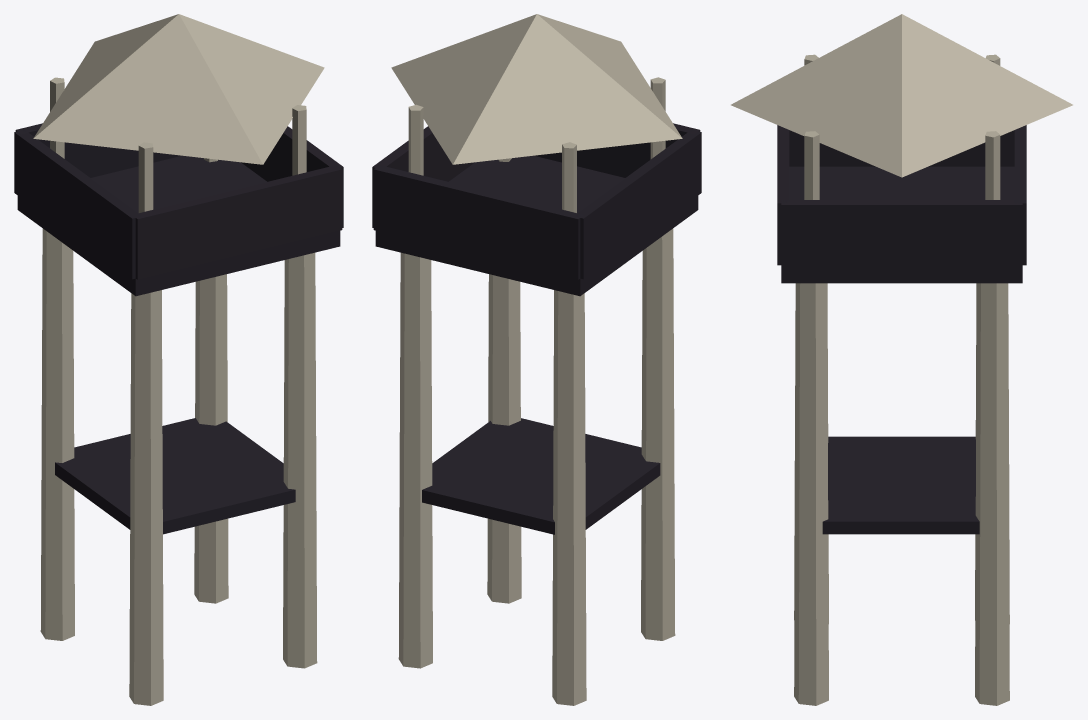
Rendered from horde_tower_broken.glb.
3 renders of one model, left to right at view 1: azimuth 30°, elevation 25°; view 2: azimuth 150°, elevation 25°; view 3: azimuth 270°, elevation 25°, orthographic. The views are drawn at different scales.
Parts seen in each view (by area): view 1: horde_tower_piece5, horde_tower_piece6, horde_tower_piece12, horde_tower_piece2, horde_tower_piece8, horde_tower_piece9, horde_tower_piece1, horde_tower_piece3, horde_tower_piece0, horde_tower_piece4, horde_tower_piece10, horde_tower_piece7 (+1 smaller); view 2: horde_tower_piece5, horde_tower_piece1, horde_tower_piece6, horde_tower_piece2, horde_tower_piece9, horde_tower_piece10, horde_tower_piece12, horde_tower_piece4, horde_tower_piece0, horde_tower_piece3, horde_tower_piece8, horde_tower_piece7 (+1 smaller); view 3: horde_tower_piece6, horde_tower_piece5, horde_tower_piece8, horde_tower_piece9, horde_tower_piece1, horde_tower_piece2, horde_tower_piece4, horde_tower_piece12, horde_tower_piece3, horde_tower_piece10.
Boxes of the visible parts, bbox=[...] form: horde_tower_piece5: bbox=[40, 303, 317, 705]; horde_tower_piece6: bbox=[134, 14, 324, 271]; horde_tower_piece12: bbox=[107, 199, 310, 513]; horde_tower_piece2: bbox=[14, 71, 159, 416]; horde_tower_piece8: bbox=[245, 77, 343, 401]; horde_tower_piece9: bbox=[83, 340, 316, 647]; horde_tower_piece1: bbox=[83, 27, 227, 359]; horde_tower_piece3: bbox=[44, 116, 157, 495]; horde_tower_piece0: bbox=[130, 446, 209, 618]; horde_tower_piece4: bbox=[89, 120, 167, 483]; horde_tower_piece10: bbox=[22, 58, 136, 198]; horde_tower_piece7: bbox=[115, 93, 227, 319]; horde_tower_piece5: bbox=[398, 389, 675, 705]; horde_tower_piece1: bbox=[376, 52, 600, 441]; horde_tower_piece6: bbox=[372, 14, 644, 246]; horde_tower_piece2: bbox=[539, 60, 682, 497]; horde_tower_piece9: bbox=[488, 283, 674, 576]; horde_tower_piece10: bbox=[497, 58, 603, 285]; horde_tower_piece12: bbox=[513, 123, 701, 419]; horde_tower_piece4: bbox=[548, 80, 686, 495]; horde_tower_piece0: bbox=[605, 372, 674, 516]; horde_tower_piece3: bbox=[579, 89, 671, 522]; horde_tower_piece8: bbox=[456, 40, 623, 325]; horde_tower_piece7: bbox=[509, 63, 665, 209]; horde_tower_piece6: bbox=[743, 14, 1026, 283]; horde_tower_piece5: bbox=[794, 402, 1009, 705]; horde_tower_piece8: bbox=[731, 98, 885, 437]; horde_tower_piece9: bbox=[794, 398, 918, 560]; horde_tower_piece1: bbox=[953, 59, 1072, 471]; horde_tower_piece2: bbox=[916, 130, 1014, 413]; horde_tower_piece4: bbox=[808, 54, 932, 473]; horde_tower_piece12: bbox=[777, 125, 830, 436]; horde_tower_piece3: bbox=[873, 165, 976, 450]; horde_tower_piece10: bbox=[955, 54, 1026, 199].
Size of the model in its own units: 1.71 by 3.55 by 1.71.
